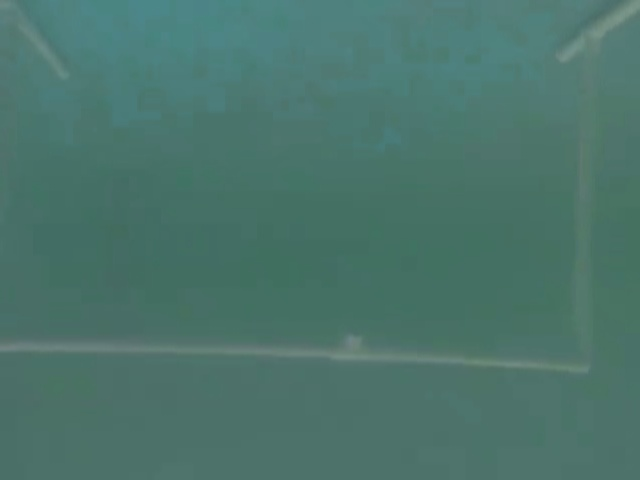gate: (2, 17, 628, 395)
